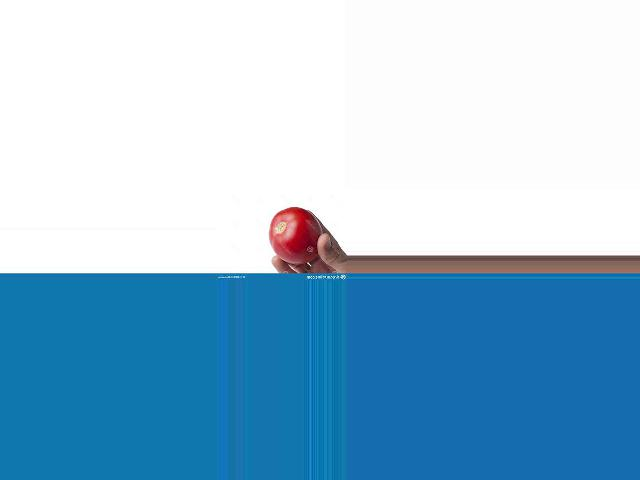tomato: (268, 207, 322, 264)
